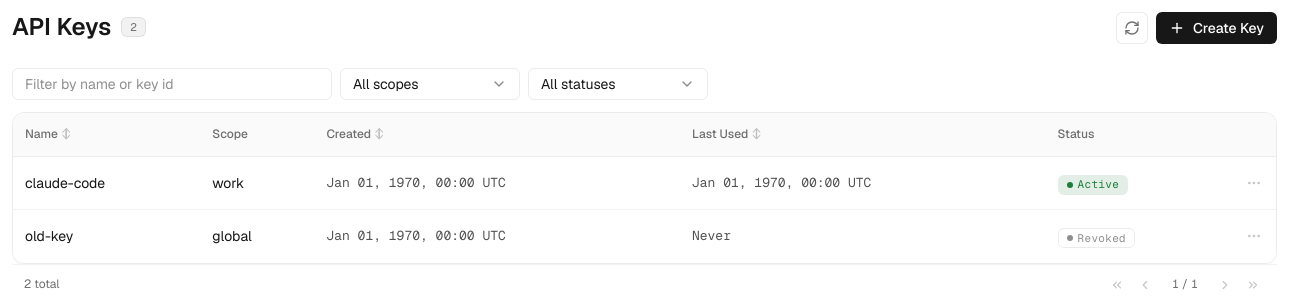
KeysPage — table columns + scope facet › scope facet filters rows by scope
Expected: the text "claude-code" is shown, [13,157,200,210]
Expected: the text "old-key" is shown, [13,210,200,263]
Click the dropdown named "filter by scope": (430, 84) [340,68,520,100]
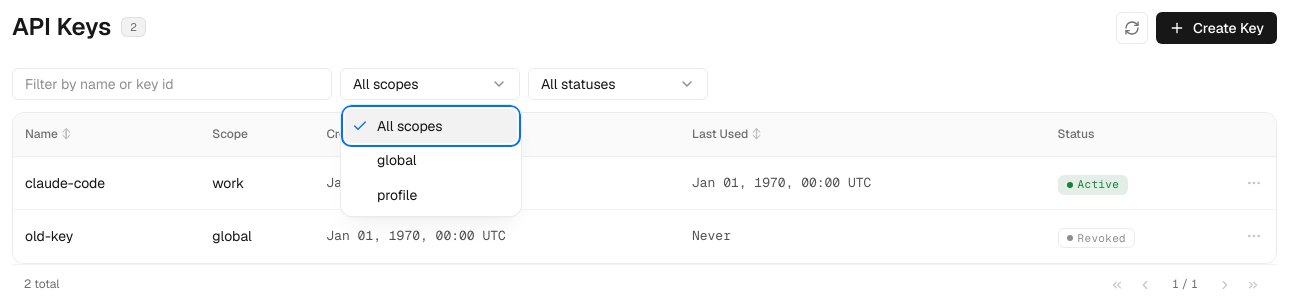
Click the option "global": (397, 160) [377,151,417,169]
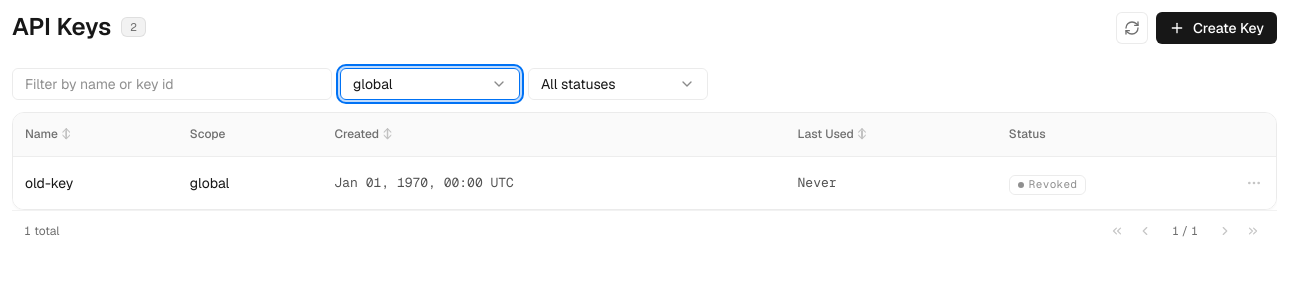
Expected: the text "old-key" is shown, [13,157,178,209]
Expected: the text "claude-code" is gone
